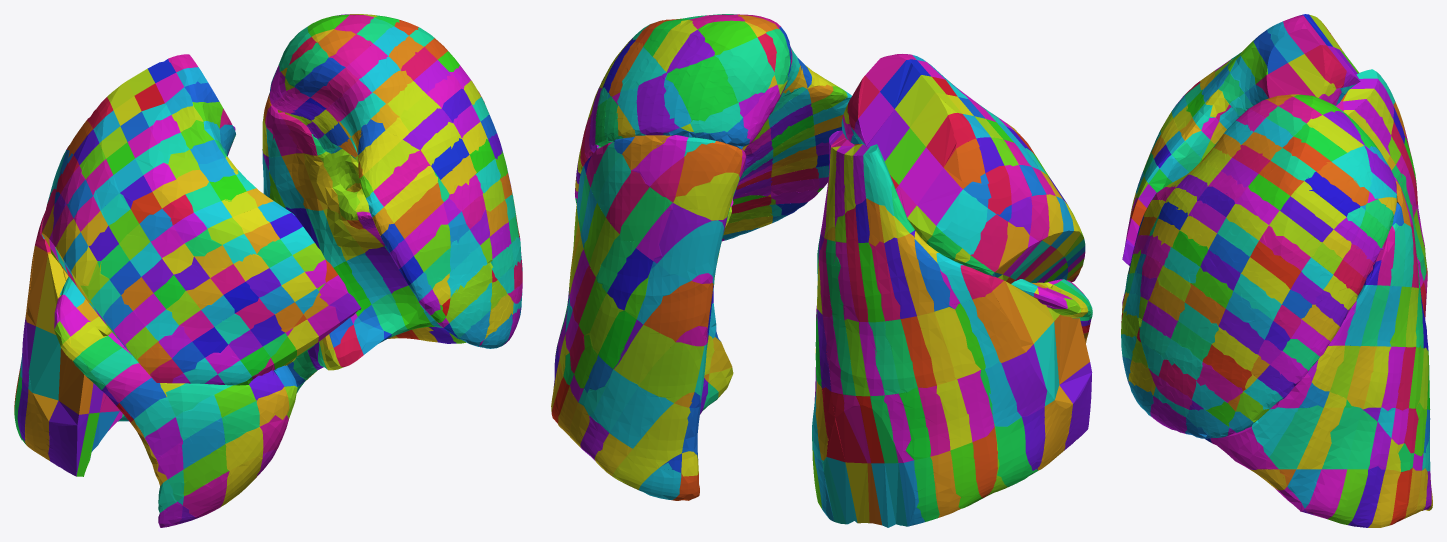
The model's file is lung-female-medium.glb.
3 views of the same model, side by side, from view 1: azimuth 30°, elevation 25°; view 2: azimuth 150°, elevation 25°; view 3: azimuth 270°, elevation 25° (orthographic). The views are drawn at different scales.
Parts seen in each view (by area): view 1: RLL-1D5, RLL-1C4, LLL-9C2, RLL-1C5, RLL-1D4, RLL-1C3, RML-2A4, RML-3A4, LUL-10B1, LUL-11B1, RML-1A4, RML-4A4 (+96 smaller); view 2: LUL-1B4, RLL-1B3, LLL-4B3, LLL-3B4, LLL-5B2, LUL-1B3, LLL-7B1, LLL-2B5, RLL-1B4, LLL-3B5, LLL-6B1, LLL-4B4 (+110 smaller); view 3: LLL-13B5, LLL-12B5, LLL-11B5, LLL-14C5, LLL-11B6, LLL-14B5, LLL-10B6, LLL-10B5, LLL-11A4, LLL-9B6, LUL-6A5, LLL-10A4 (+137 smaller).
Part boxes in pixels (<box>): RLL-1D5: <box>48,400,88,476</box>; RLL-1C4: <box>28,326,60,400</box>; LLL-9C2: <box>318,149,360,219</box>; RLL-1C5: <box>25,389,58,460</box>; RLL-1D4: <box>58,348,93,414</box>; RLL-1C3: <box>36,253,65,334</box>; RML-2A4: <box>183,444,229,495</box>; RML-3A4: <box>182,418,225,468</box>; LUL-10B1: <box>373,150,430,206</box>; LUL-11B1: <box>384,166,437,222</box>; RML-1A4: <box>183,471,229,517</box>; RML-4A4: <box>175,395,221,440</box>; LUL-1B4: <box>666,56,738,122</box>; RLL-1B3: <box>972,280,1033,362</box>; LLL-4B3: <box>643,281,713,341</box>; LLL-3B4: <box>639,342,704,402</box>; LLL-5B2: <box>657,220,724,281</box>; LUL-1B3: <box>714,37,774,102</box>; LLL-7B1: <box>673,141,742,201</box>; LLL-2B5: <box>633,403,690,467</box>; RLL-1B4: <box>1001,344,1047,416</box>; LLL-3B5: <box>609,386,673,448</box>; LLL-6B1: <box>673,172,739,220</box>; LLL-4B4: <box>614,325,675,385</box>; LLL-13B5: <box>1269,405,1323,469</box>; LLL-12B5: <box>1296,407,1343,469</box>; LLL-11B5: <box>1322,406,1362,469</box>; LLL-14C5: <box>1210,426,1268,469</box>; LLL-11B6: <box>1305,469,1346,518</box>; LLL-14B5: <box>1252,407,1298,456</box>; LLL-10B6: <box>1327,469,1368,524</box>; LLL-10B5: <box>1347,410,1377,469</box>; LLL-11A4: <box>1347,346,1377,409</box>; LLL-9B6: <box>1348,466,1385,527</box>; LUL-6A5: <box>1291,181,1346,229</box>; LLL-10A4: <box>1363,346,1390,409</box>.
Bounding box in the file's own units: 0.2519 × 0.2249 × 0.1527.
